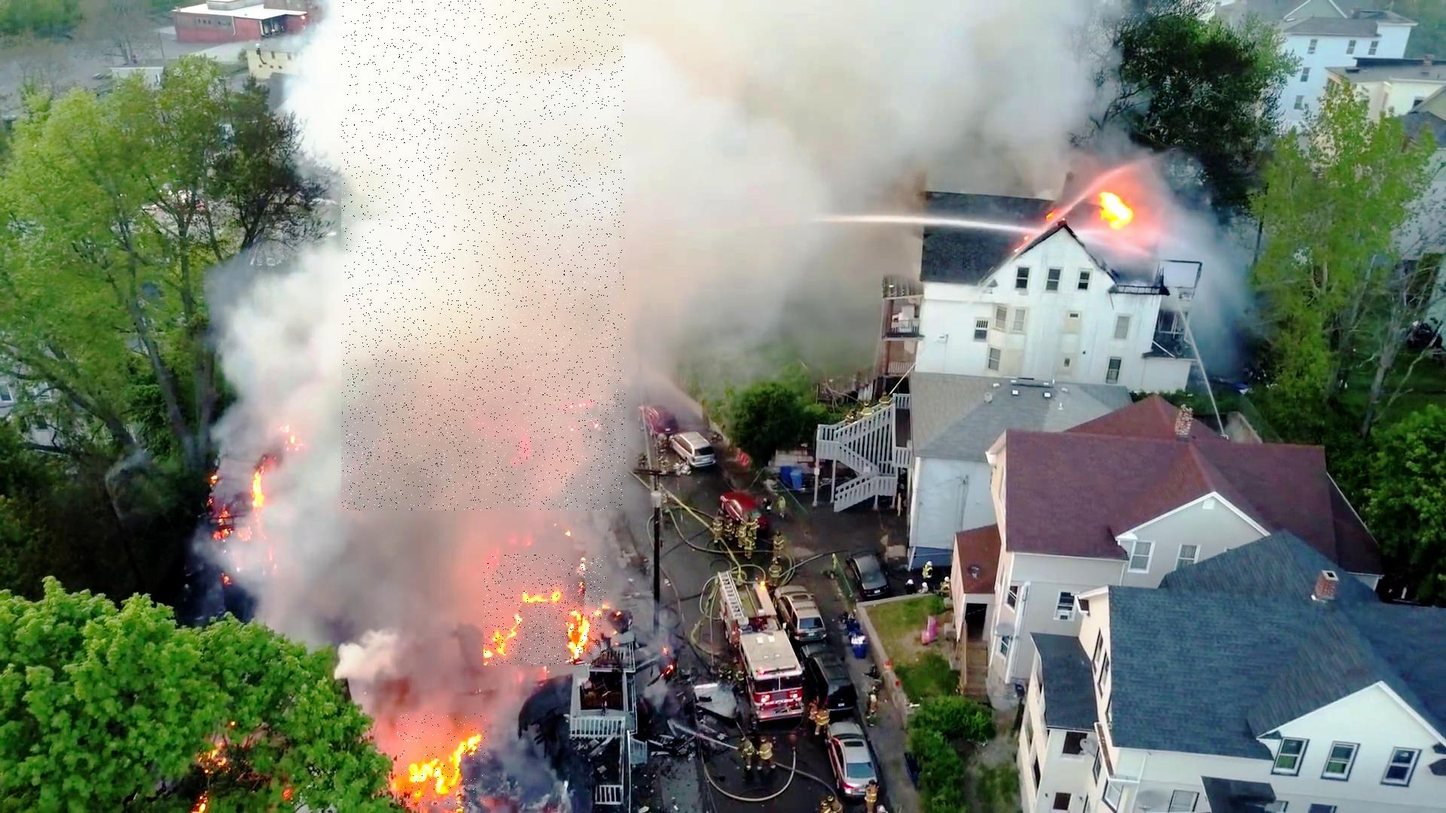fire: (484, 554, 606, 666), (397, 712, 487, 807)
smoke: (342, 0, 626, 510)
